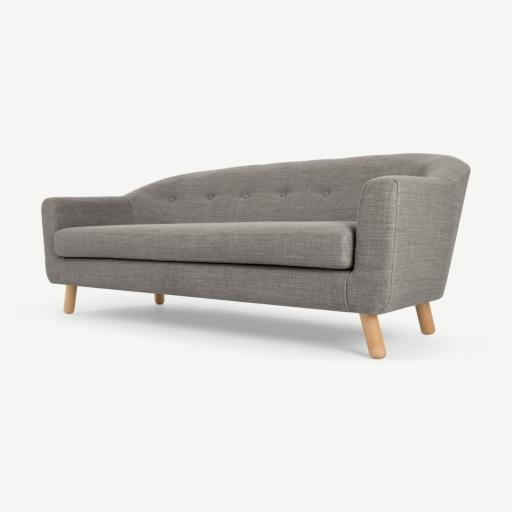back_cushion: (131, 162, 374, 223)
base: (51, 258, 350, 312)
left_arm: (345, 171, 468, 313)
legs: (360, 314, 386, 358), (418, 305, 435, 333), (64, 286, 77, 314), (155, 294, 164, 303)
one-seater: (0, 0, 511, 512)
right_arm: (42, 196, 132, 282)
seat_cushion: (50, 221, 356, 269)
